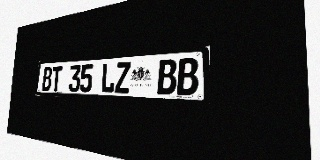3: (69, 65, 81, 92)
5: (80, 64, 93, 92)
B: (177, 57, 198, 95), (157, 59, 177, 95), (42, 67, 53, 91)
L: (101, 63, 116, 93)
T: (51, 66, 62, 91)
Z: (115, 62, 131, 93)
